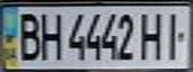2: (115, 9, 139, 61)
4: (63, 9, 87, 61), (100, 9, 121, 61), (84, 9, 103, 61)
B: (12, 9, 45, 62)
H: (136, 8, 169, 61), (36, 9, 63, 61)
I: (157, 8, 193, 61)
